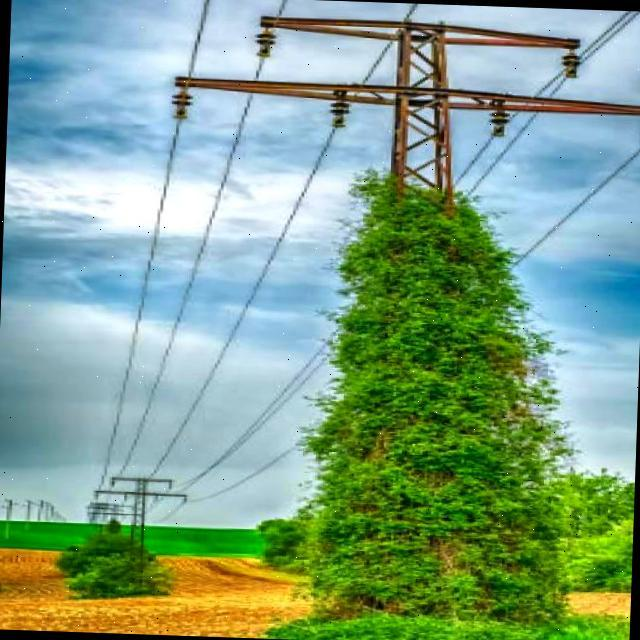critical vegetation: (246, 12, 595, 596), (317, 162, 569, 602)
